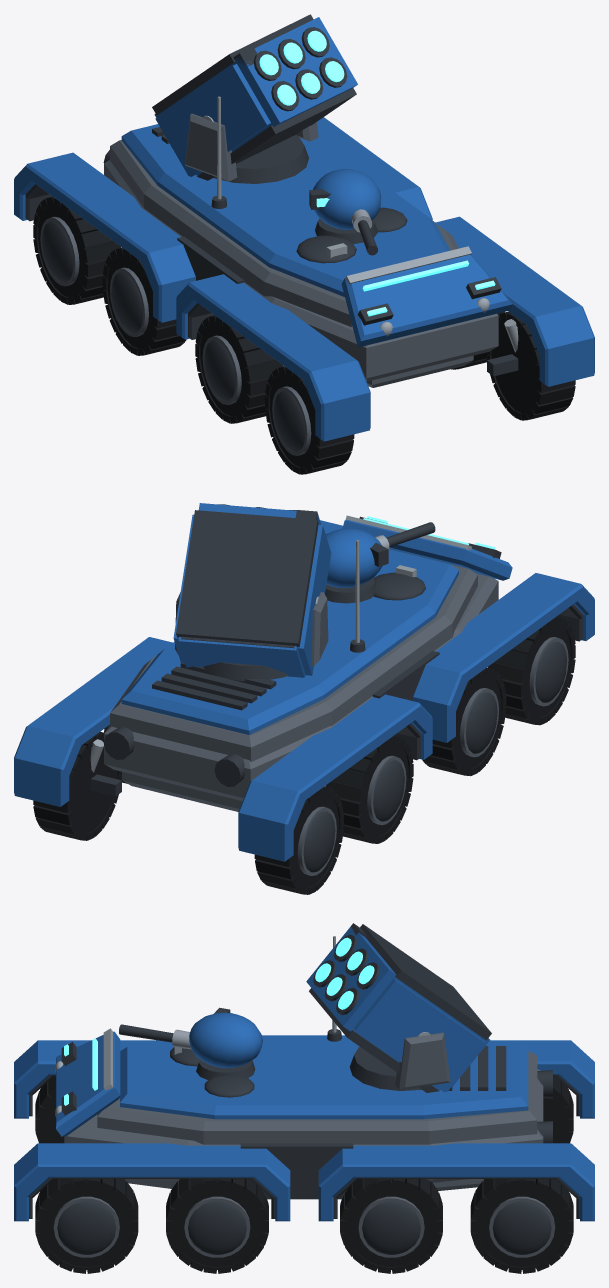
File: kestrel-missile-carrier.glb
3 renders of one model, top to bottom at view 1: azimuth 30°, elevation 25°; view 2: azimuth 150°, elevation 25°; view 3: azimuth 270°, elevation 25°, orthographic. The views are drawn at different scales.
Visible parts, largest first — view 1: hull_deck, rim_dish, rim, tyre, vision_band, hub; view 2: hull_deck, rim_dish, rim, tyre, hub; view 3: hull_deck, rim_dish, tyre, rim, vision_band, hub.
Boxes of the visible parts, <box> form: hull_deck: <box>14,17,594,441</box>; rim_dish: <box>25,14,518,452</box>; rim: <box>40,113,498,455</box>; tyre: <box>33,196,575,474</box>; vision_band: <box>259,30,495,316</box>; hub: <box>202,96,518,352</box>; hull_deck: <box>14,503,594,861</box>; rim_dish: <box>90,504,583,872</box>; rim: <box>104,550,568,875</box>; tyre: <box>33,617,575,894</box>; hub: <box>90,515,471,772</box>; hull_deck: <box>14,926,594,1221</box>; rim_dish: <box>29,923,579,1254</box>; tyre: <box>35,1076,573,1273</box>; rim: <box>53,1032,555,1257</box>; vision_band: <box>64,937,374,1105</box>; hub: <box>55,936,430,1116</box>.
Bounding box in the file's own units: 3.97 × 4.03 × 7.74.
